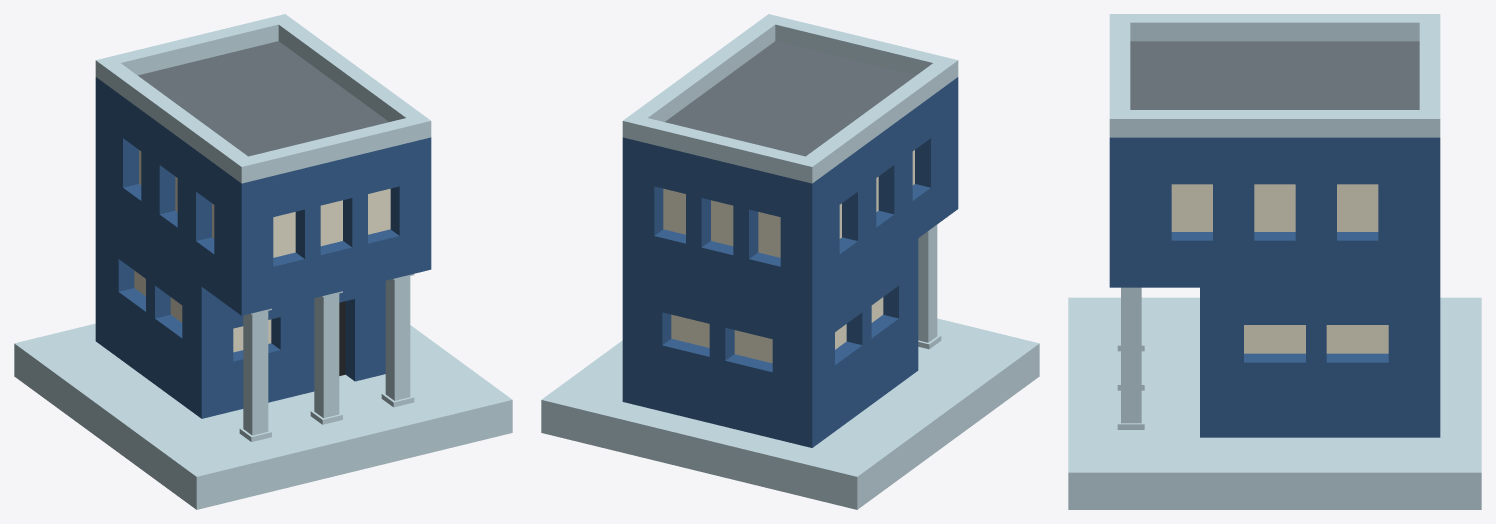
The model's file is Building_7_Base (Blue).obj.
The picture shows the model from 3 angles, left to right: view 1: azimuth 30°, elevation 25°; view 2: azimuth 150°, elevation 25°; view 3: azimuth 270°, elevation 25°; orthographic projection. The views are drawn at different scales.
Visible parts, largest first — view 1: Building_7_Base_(Blue); view 2: Building_7_Base_(Blue); view 3: Building_7_Base_(Blue).
Boxes of the visible parts, bbox=[...] form: Building_7_Base_(Blue): bbox=[14, 14, 512, 509]; Building_7_Base_(Blue): bbox=[541, 14, 1039, 509]; Building_7_Base_(Blue): bbox=[1068, 14, 1481, 509].
Size of the model in its own units: 2 by 1.9 by 2.
